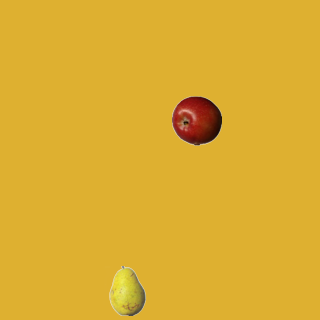Apple Braeburn: (171, 95, 221, 145)
Pear Monster: (102, 265, 152, 315)
